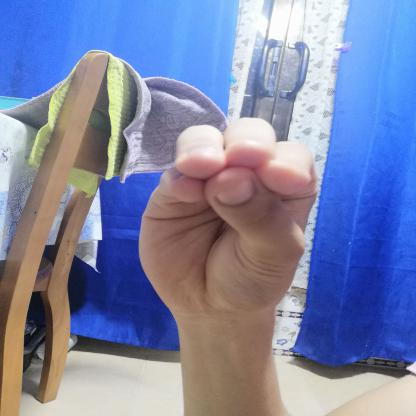HA: (122, 105, 333, 333)
